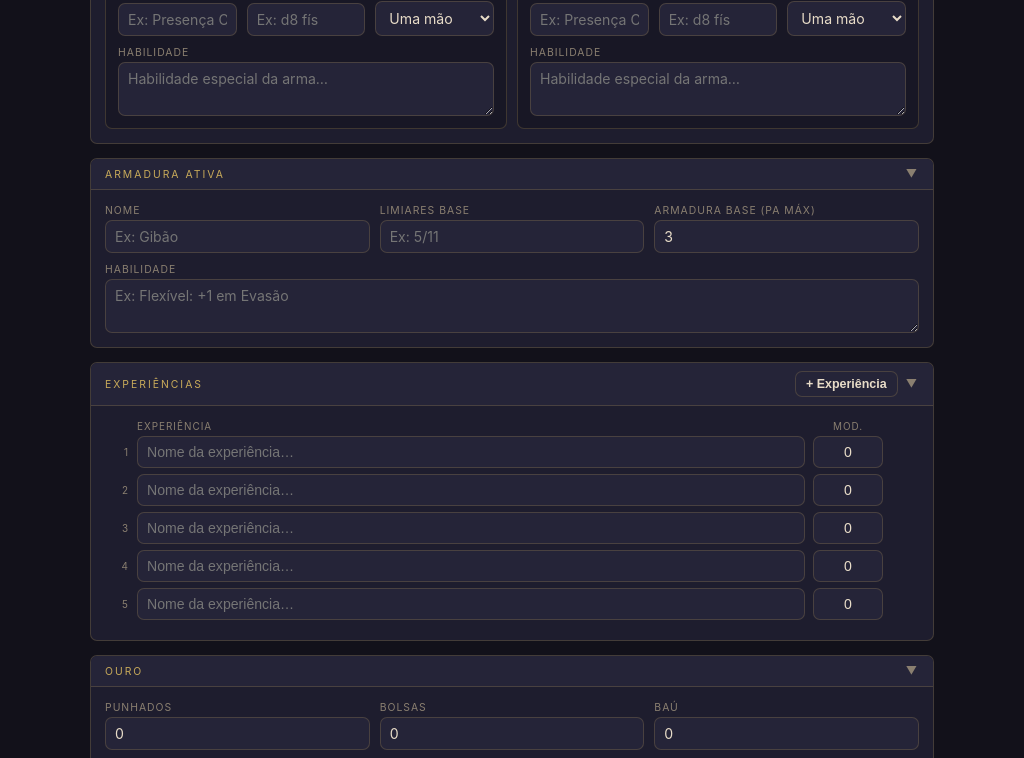
Test case: FormScreen — experiências › linha extra tem botão ✕ que a remove
(page scrolled)
Click the button "+ Experiência".
click(846, 384)  # box [795,371,898,397]
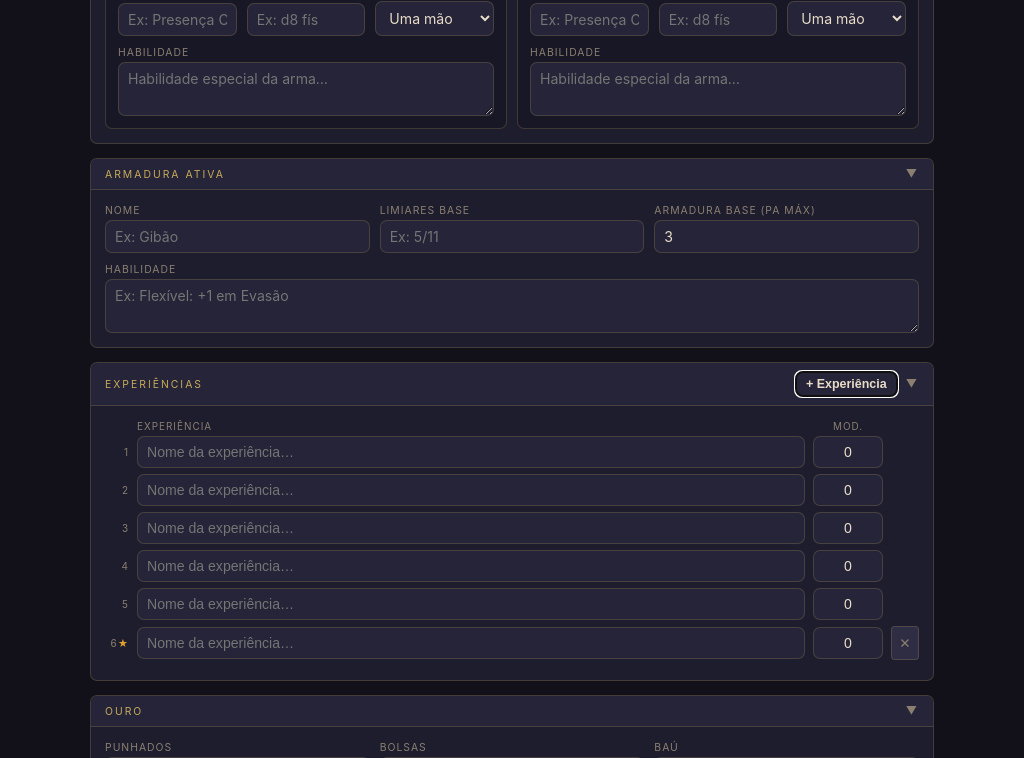
Expected: the number of fields with placeholder "Nome da experiência…" is 6, [137,436,805,468]; [137,474,805,506]; [137,512,805,544]; [137,550,805,582]; [137,588,805,620]; [137,627,805,659]
Click the button "✕".
click(905, 643)  # box [891,626,919,660]
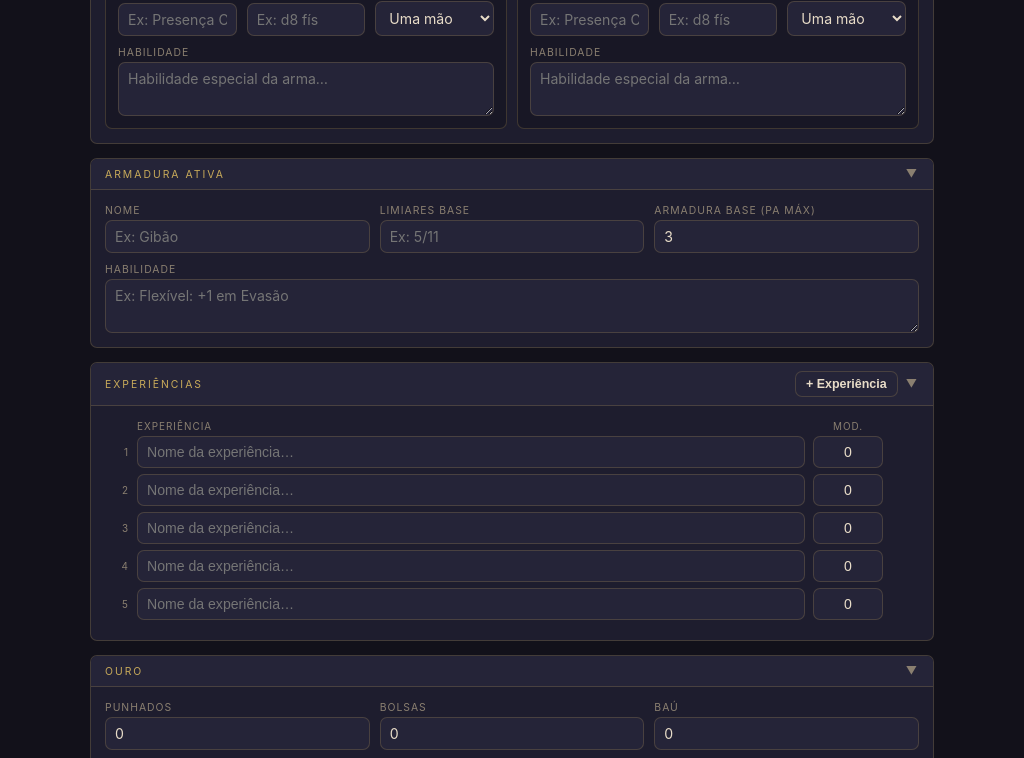
Expected: the number of fields with placeholder "Nome da experiência…" is 5, [137,436,805,468]; [137,474,805,506]; [137,512,805,544]; [137,550,805,582]; [137,588,805,620]
